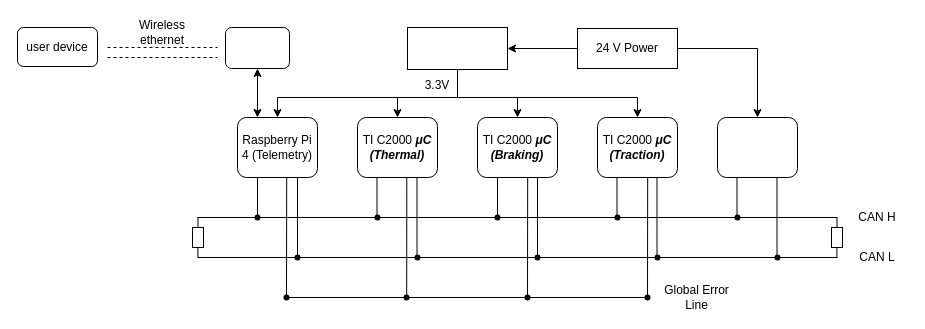
This 925x329 diagram has some shape labels left out. The box of each missing label's shape, as (x1, y1, x2, y2) in pixels:
DC-DC Converter: (406, 26, 508, 70)
orion BMS 2: (716, 116, 798, 178)
Rocket M2: (224, 26, 290, 68)
